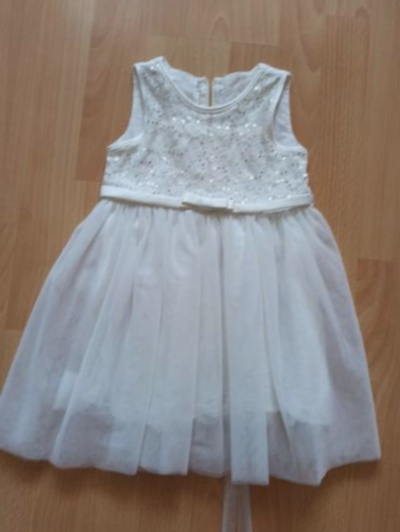Dress: (0, 0, 400, 507), (0, 0, 15, 471)
